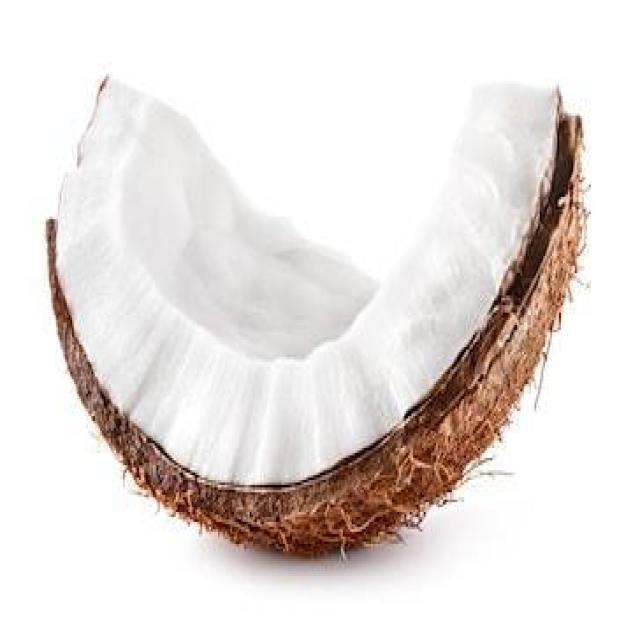coconut: (42, 47, 598, 562)
